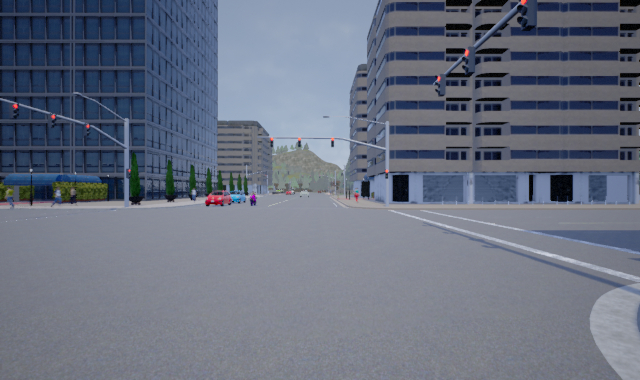motobike: (248, 189, 257, 206)
pedestrian: (2, 185, 18, 208), (50, 185, 65, 207), (66, 185, 79, 206), (190, 186, 198, 202), (353, 186, 360, 203)
traffic_light: (517, 1, 538, 31), (461, 46, 475, 76), (434, 73, 446, 96), (11, 101, 21, 122), (49, 111, 58, 129), (83, 121, 91, 139), (126, 167, 132, 179), (330, 137, 336, 149), (270, 136, 275, 148), (297, 136, 302, 148), (385, 169, 389, 180)
vehicle: (205, 190, 231, 206), (224, 189, 246, 204)
